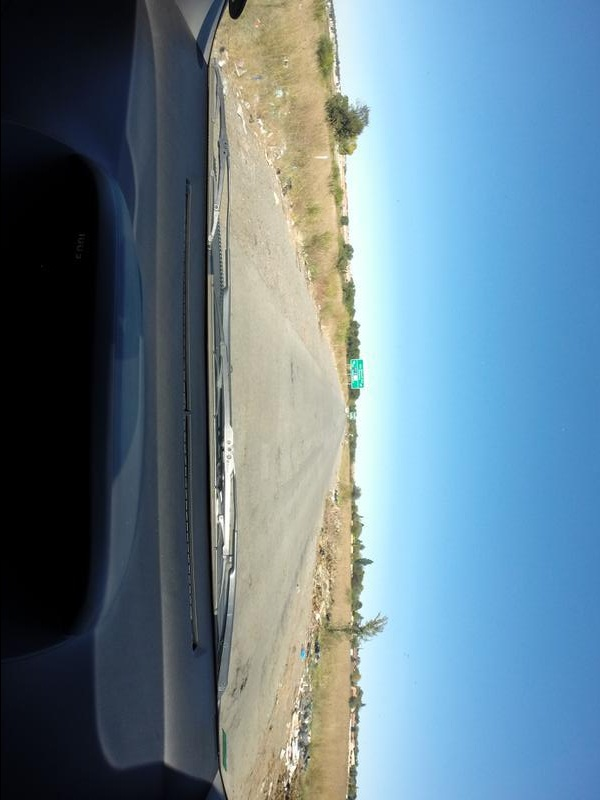pothole: (226, 664, 265, 704), (278, 356, 295, 391)
